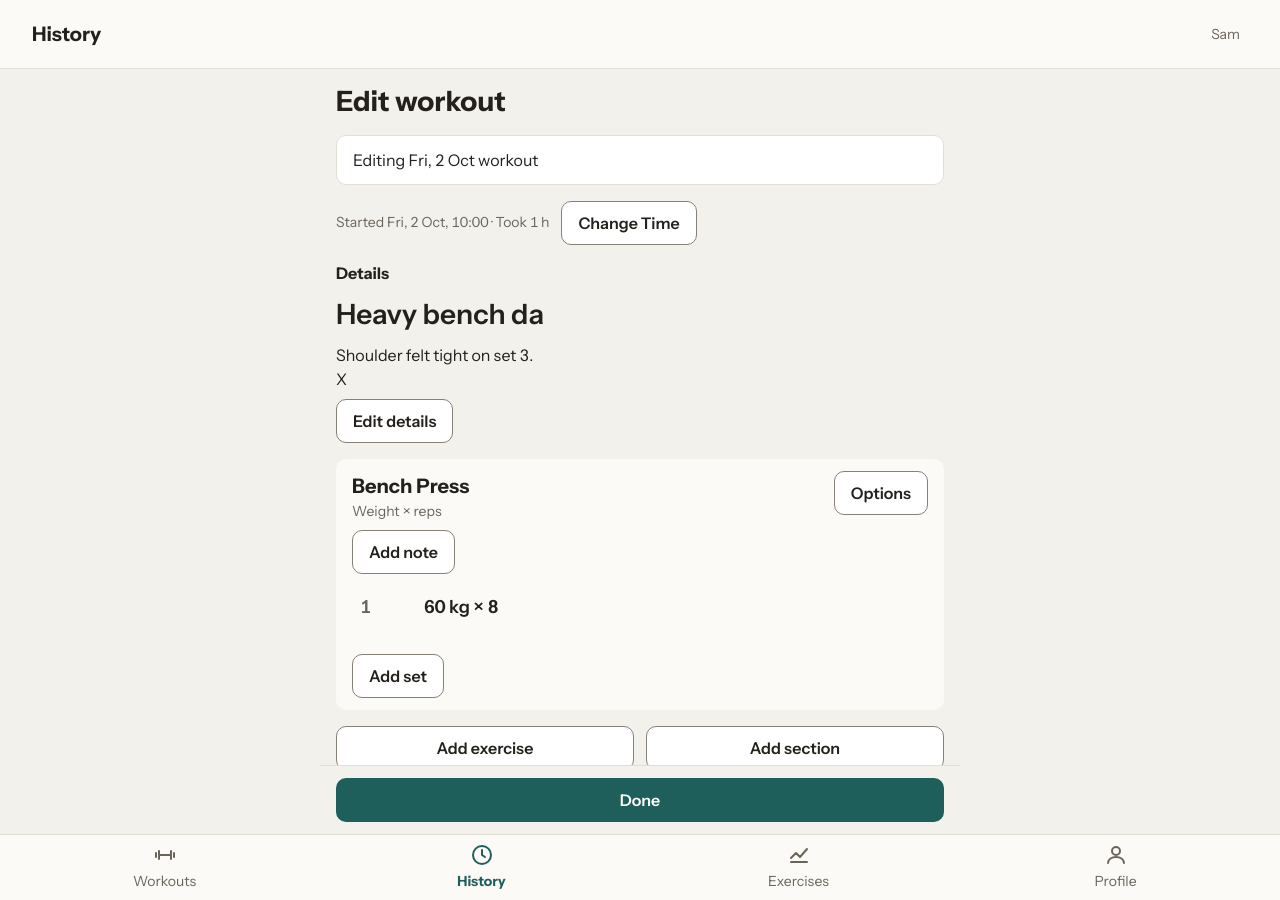
Test case: 18.0 AC53 / AC54 — the Details sheet › prefilled with counting hints
Check: the heading "Edit workout" is shown, box [336, 84, 506, 118]
Click the button "Edit details" at coordinates (395, 421), box [336, 399, 453, 443]
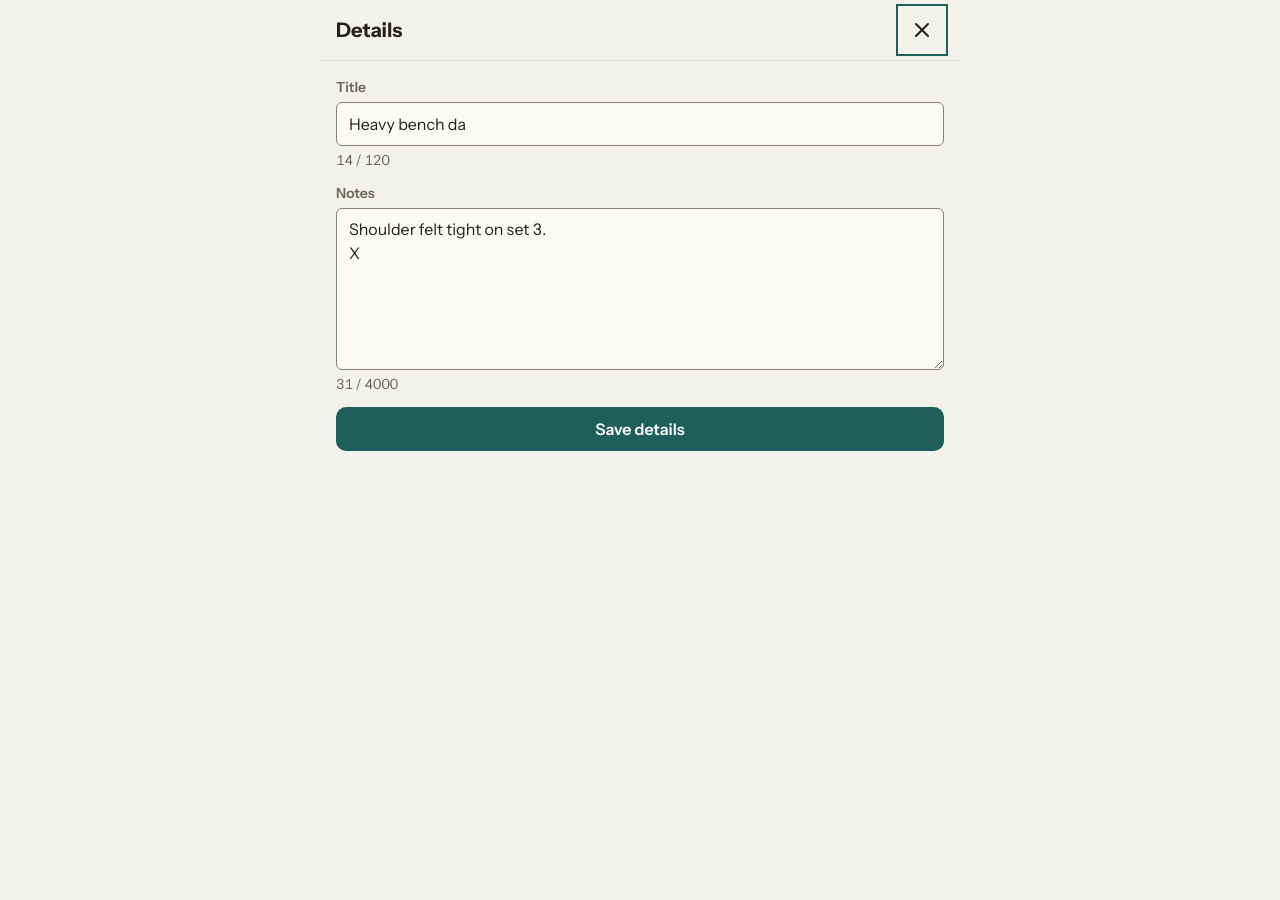
Check: the field labelled "Title" holds "Heavy bench da", box [336, 102, 944, 146]
Check: the text "14 / 120" is shown, box [336, 151, 390, 169]
Check: the text "31 / 4000" is shown, box [336, 375, 398, 393]
